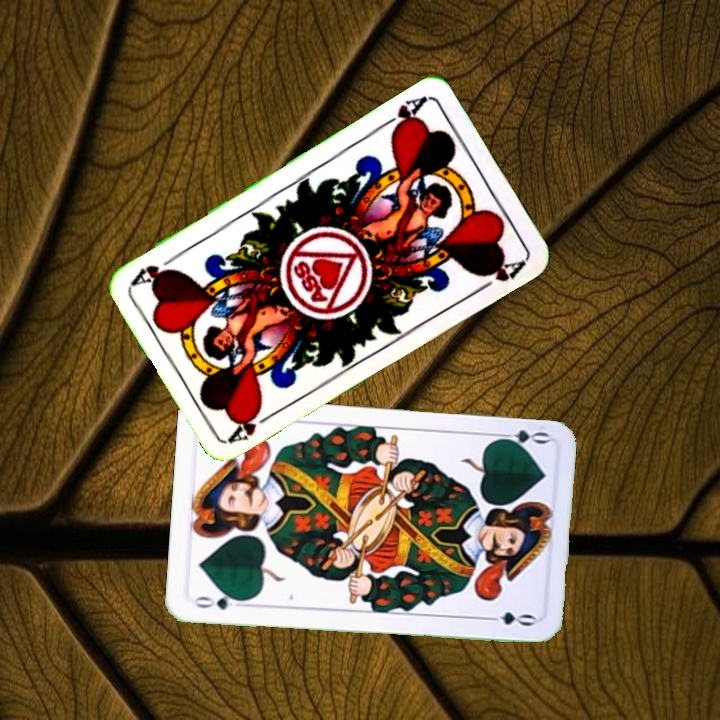GO: (491, 425, 551, 451), (190, 589, 249, 613)
HA: (375, 92, 428, 138), (225, 406, 280, 445)
